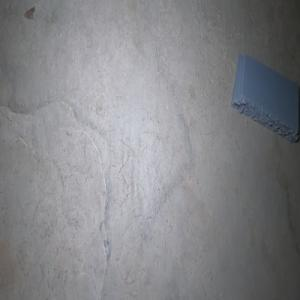PlasticPart: (230, 53, 299, 144)
